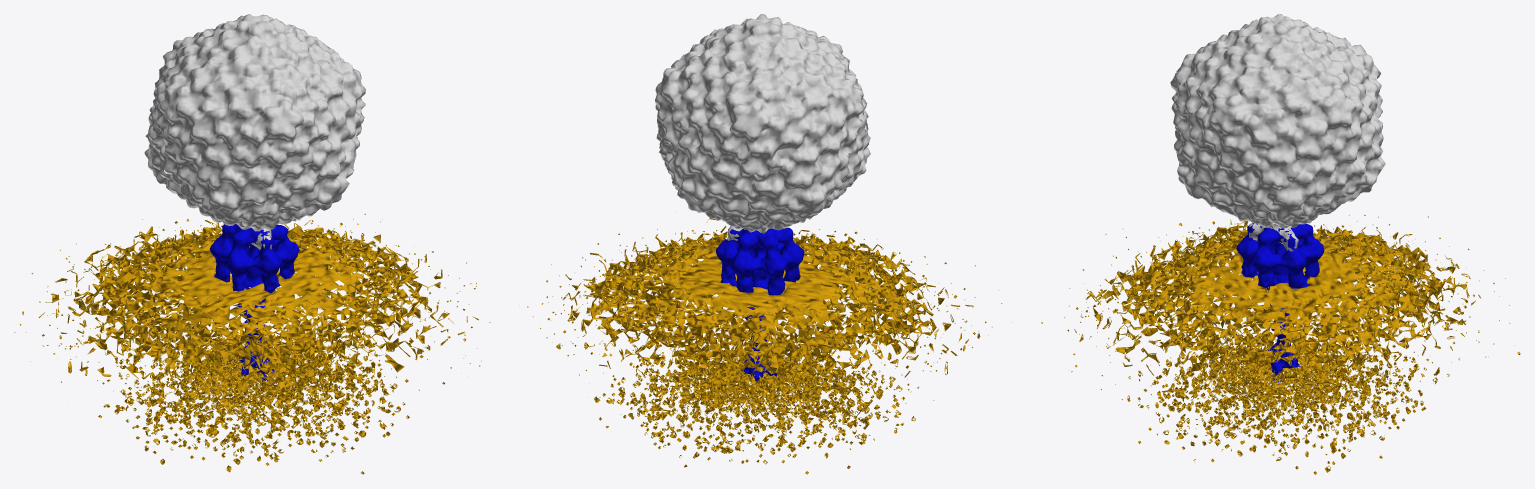
The model's file is viruscoloreado.glb.
3 views of the same model, side by side, from view 1: azimuth 30°, elevation 25°; view 2: azimuth 150°, elevation 25°; view 3: azimuth 270°, elevation 25° (orthographic).
Visible parts, largest first — view 1: vmd_mol0_rep0, vmd_mol3_rep0, vmd_mol4_rep0, vmd_mol1_rep0; view 2: vmd_mol0_rep0, vmd_mol3_rep0, vmd_mol4_rep0, vmd_mol1_rep0; view 3: vmd_mol0_rep0, vmd_mol3_rep0, vmd_mol4_rep0, vmd_mol1_rep0.
Boxes of the visible parts, left/top/right/bottom form: vmd_mol0_rep0: left=144, top=14, right=365, bottom=250; vmd_mol3_rep0: left=14, top=207, right=490, bottom=433; vmd_mol4_rep0: left=98, top=318, right=409, bottom=474; vmd_mol1_rep0: left=210, top=223, right=299, bottom=381; vmd_mol0_rep0: left=655, top=14, right=870, bottom=240; vmd_mol3_rep0: left=527, top=218, right=1012, bottom=423; vmd_mol4_rep0: left=594, top=331, right=915, bottom=474; vmd_mol1_rep0: left=716, top=226, right=804, bottom=380; vmd_mol0_rep0: left=1170, top=14, right=1385, bottom=251; vmd_mol3_rep0: left=1041, top=215, right=1520, bottom=427; vmd_mol4_rep0: left=1127, top=314, right=1449, bottom=474; vmd_mol1_rep0: left=1236, top=223, right=1324, bottom=382.
Bounding box in the file's own units: 2.78 × 2.56 × 2.74.
